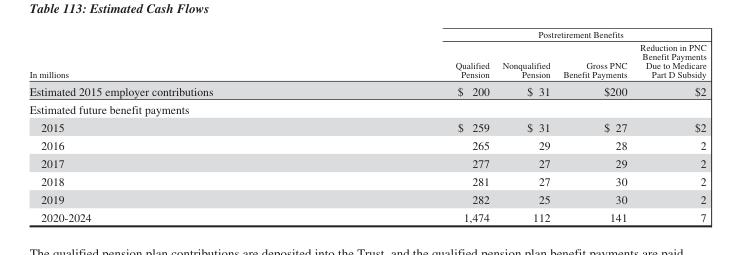table: (28, 28, 705, 224)
table column: (28, 28, 333, 224), (333, 28, 495, 224), (555, 28, 632, 224), (632, 28, 705, 224), (495, 28, 555, 224)
table column header: (28, 28, 705, 81)
table projected row header: (28, 99, 705, 118)
table row: (28, 40, 705, 81), (28, 99, 705, 118), (28, 81, 705, 99), (28, 118, 705, 136), (28, 136, 705, 154), (28, 154, 705, 172), (28, 172, 705, 190), (28, 190, 705, 208), (28, 208, 705, 224), (28, 28, 705, 40)
table spanning cell: (28, 28, 333, 81), (333, 28, 705, 40)
